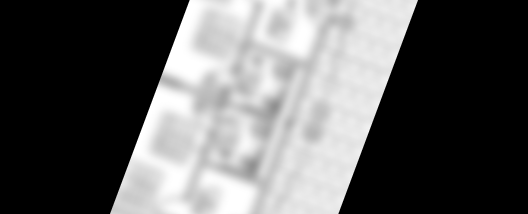door: (199, 59, 237, 98), (296, 0, 337, 31), (185, 97, 221, 132), (151, 187, 190, 214), (111, 207, 245, 214), (232, 0, 273, 8), (214, 210, 255, 214)
wall: (244, 18, 335, 214), (249, 61, 299, 182), (160, 74, 274, 124), (180, 128, 219, 207), (230, 2, 266, 75), (243, 37, 313, 71), (200, 157, 267, 189), (328, 0, 367, 8)
